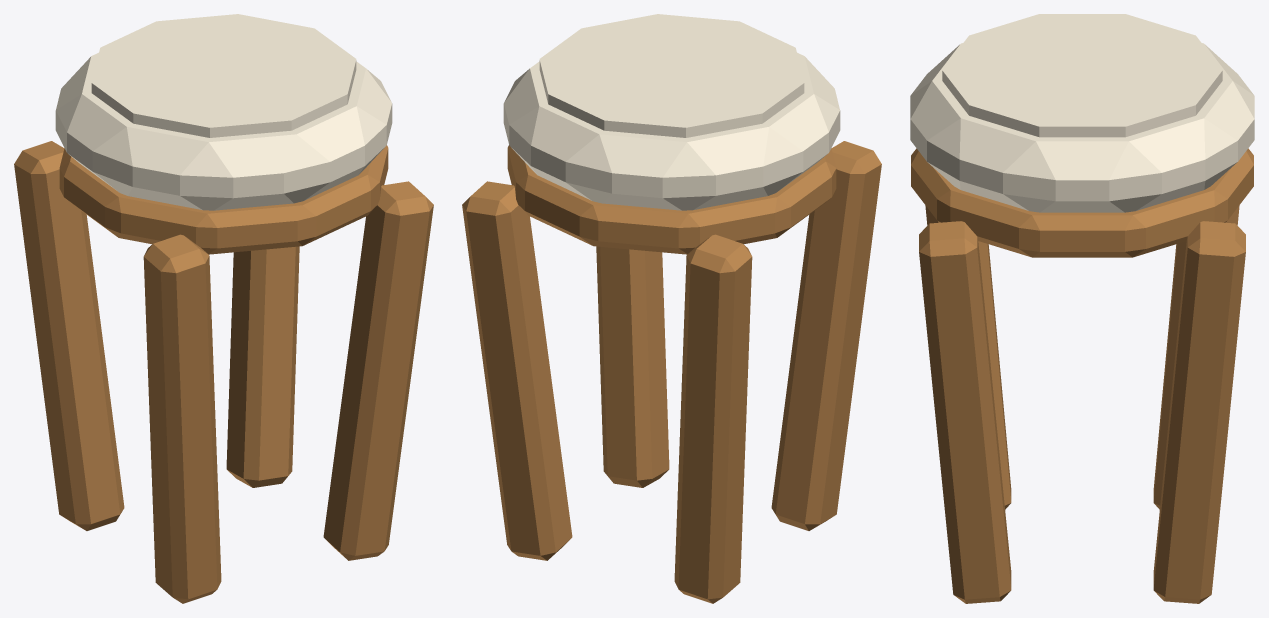
Rendered from desk_stool.glb.
3 views of the same model, side by side, from view 1: azimuth 30°, elevation 25°; view 2: azimuth 150°, elevation 25°; view 3: azimuth 270°, elevation 25° (orthographic). The views are drawn at different scales.
Parts seen in each view (by area): view 1: desk_stool; view 2: desk_stool; view 3: desk_stool.
Boxes of the visible parts, <box> form: desk_stool: <box>14,14,433,603</box>; desk_stool: <box>462,14,881,603</box>; desk_stool: <box>910,14,1254,603</box>.
Bounding box in the file's own units: 0.2948 × 0.4576 × 0.2945.
